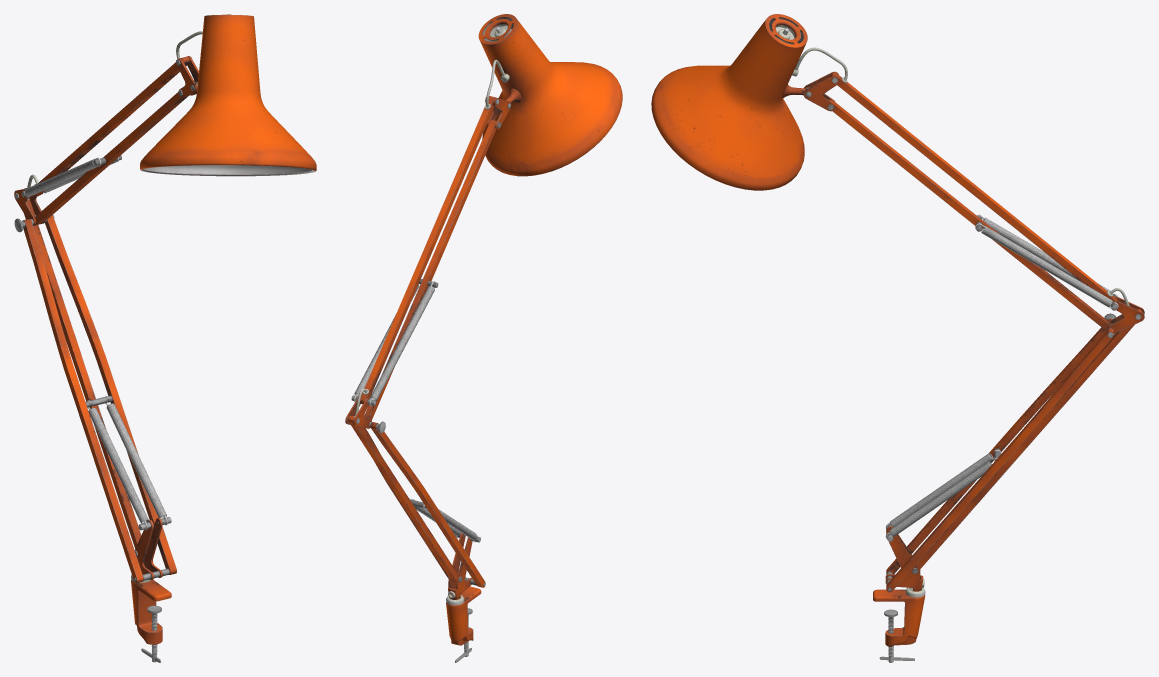
3 views of the same model, side by side, from view 1: azimuth 30°, elevation 25°; view 2: azimuth 150°, elevation 25°; view 3: azimuth 270°, elevation 25° (orthographic). The views are drawn at different scales.
Visible parts, largest first — view 1: desk_lamp_arm_01; view 2: desk_lamp_arm_01; view 3: desk_lamp_arm_01.
Boxes of the visible parts, <box> form: desk_lamp_arm_01: <box>14,14,316,662</box>; desk_lamp_arm_01: <box>345,14,622,662</box>; desk_lamp_arm_01: <box>651,14,1144,662</box>.
Bounding box in the file's own units: 13.56 × 60 × 41.26.
2 materials, 2 textured.
